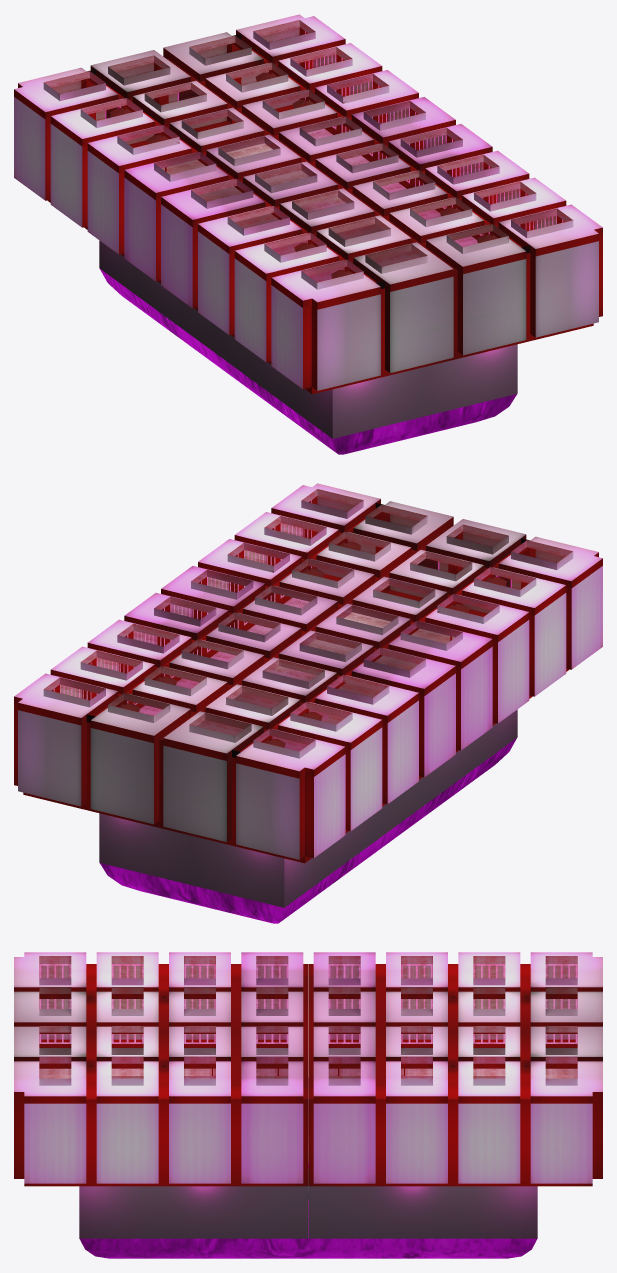
The model's file is room2.glb.
The picture shows the model from 3 angles, top to bottom: view 1: azimuth 30°, elevation 25°; view 2: azimuth 150°, elevation 25°; view 3: azimuth 270°, elevation 25°; orthographic projection.
Parts seen in each view (by area): view 1: Material2 (×4); view 2: Material2 (×4); view 3: Material2 (×2).
Part boxes in pixels (x1,y1,x2,y2): Material2 (×4): [14, 14, 602, 454]; Material2 (×4): [14, 483, 602, 923]; Material2 (×2): [14, 952, 602, 1258].
Bounding box in the file's own units: 394 × 272 × 681.
Materials: 9 (6 with a texture image).
